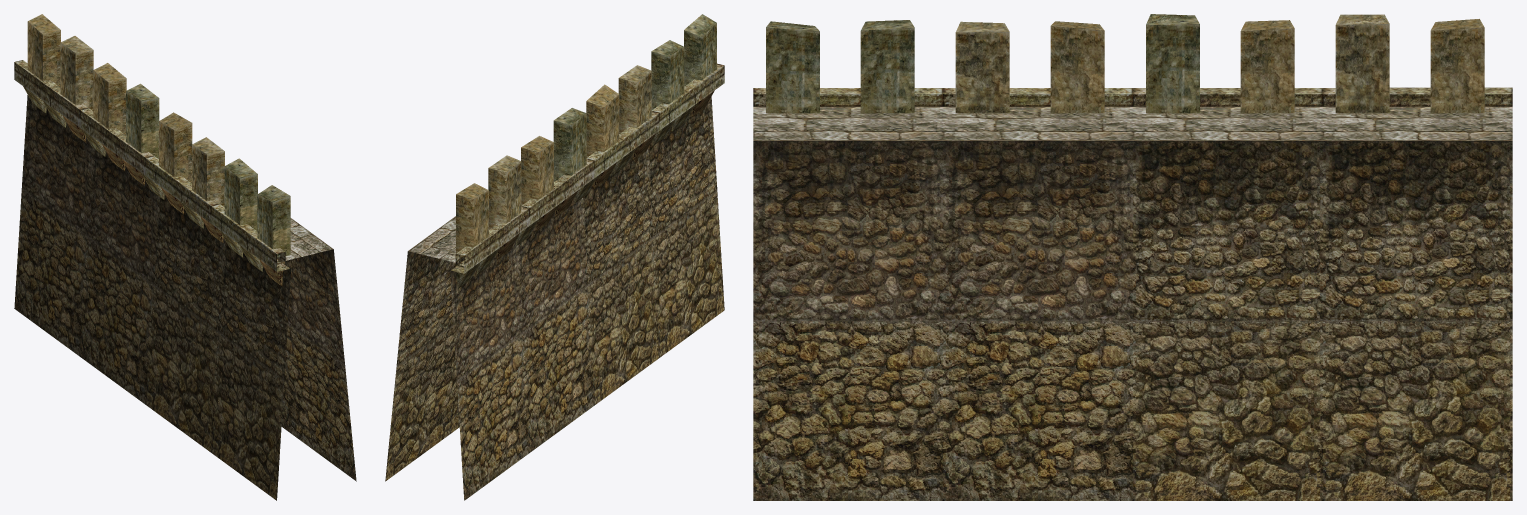
The model's file is hrz24.glb.
3 views of the same model, side by side, from view 1: azimuth 30°, elevation 25°; view 2: azimuth 150°, elevation 25°; view 3: azimuth 270°, elevation 25° (orthographic). The views are drawn at different scales.
Visible parts, largest first — view 1: hrz24-col; view 2: hrz24-col; view 3: hrz24-col.
Part boxes in pixels (x1,y1,x2,y2): hrz24-col: [14, 14, 356, 500]; hrz24-col: [385, 14, 724, 500]; hrz24-col: [753, 14, 1512, 500].
Bounding box in the file's own units: 2.8 × 10.09 × 16.
11 materials, 11 textured.
